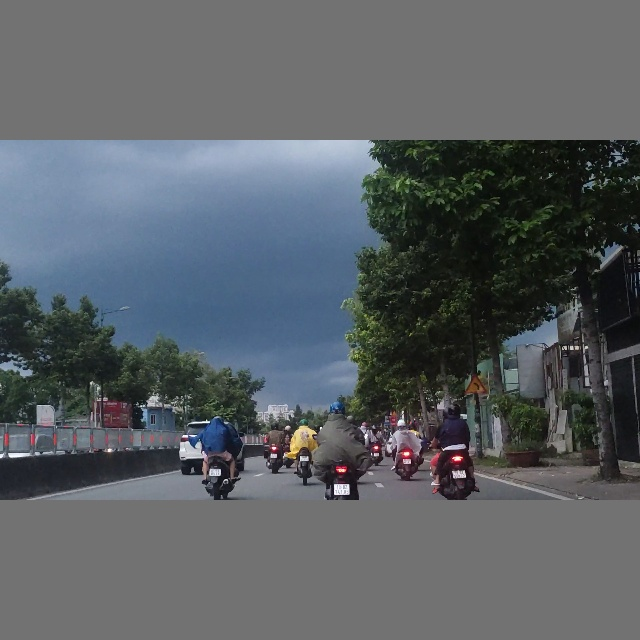W.201a: (464, 373, 488, 393)
